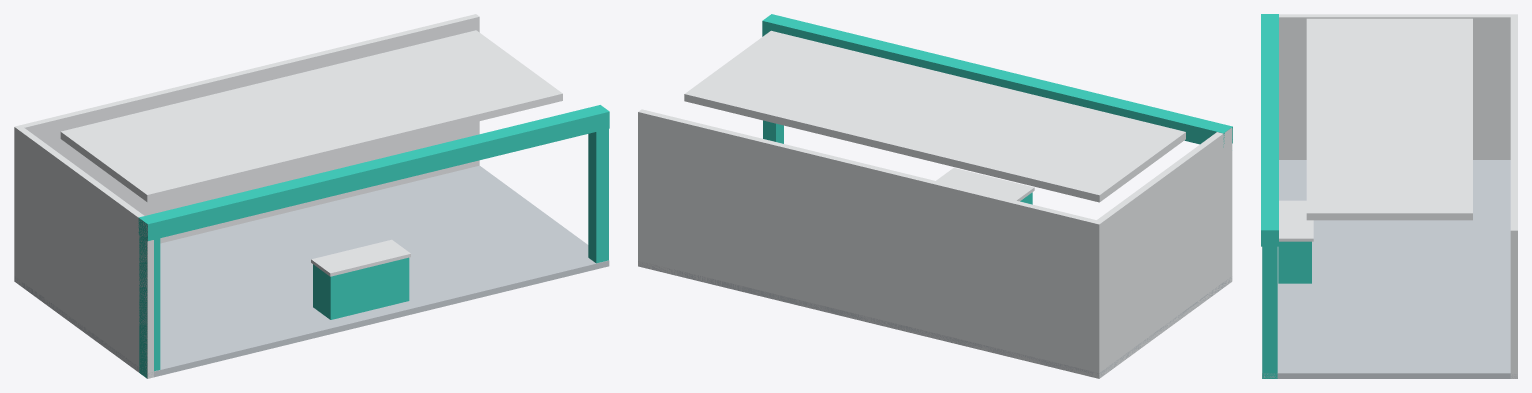
3 views of the same model, side by side, from view 1: azimuth 30°, elevation 25°; view 2: azimuth 150°, elevation 25°; view 3: azimuth 270°, elevation 25° (orthographic). The views are drawn at different scales.
Parts seen in each view (by area): view 1: Exhibition Booth Concept; view 2: Exhibition Booth Concept; view 3: Exhibition Booth Concept.
Boxes of the visible parts, x1,y1,x2,y2 form: Exhibition Booth Concept: (14, 14, 609, 378); Exhibition Booth Concept: (638, 14, 1232, 378); Exhibition Booth Concept: (1261, 14, 1517, 378).
Bounding box in the file's own units: 10 × 3.34 × 5.02.
